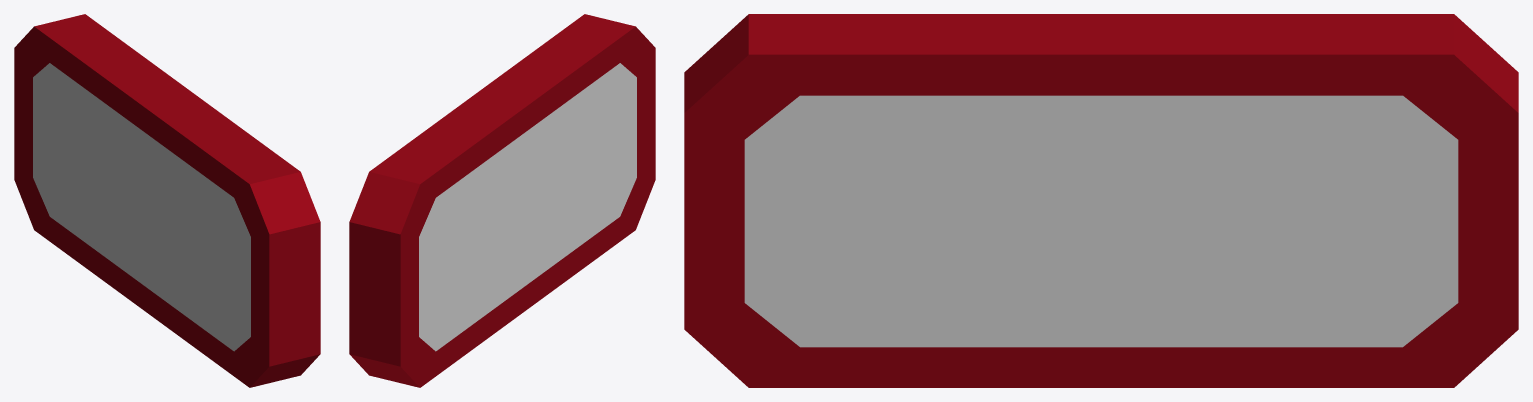
Rendered from RedPork.fbx.
3 views of the same model, side by side, from view 1: azimuth 30°, elevation 25°; view 2: azimuth 150°, elevation 25°; view 3: azimuth 270°, elevation 25° (orthographic). The views are drawn at different scales.
Visible parts, largest first — view 1: pCube15; view 2: pCube15; view 3: pCube15.
Boxes of the visible parts, x1,y1,x2,y2 form: pCube15: (14, 14, 320, 387); pCube15: (349, 14, 655, 387); pCube15: (684, 14, 1518, 387).
Size of the model in its own units: 0.0299 by 0.1138 by 0.2582.
